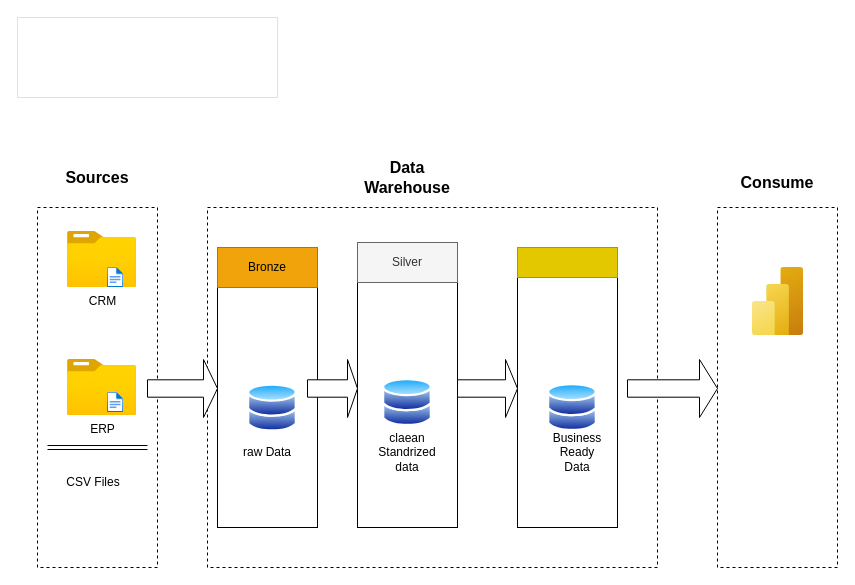
Image size: 855x585. Some labels were removed from this diagram. The shapes that lost their labels are listed below. From the top down, each one's box as (x1, y1, x2, y2) in pixels, then its label:
(516, 246, 618, 278): Gold
(752, 267, 803, 335): BI
